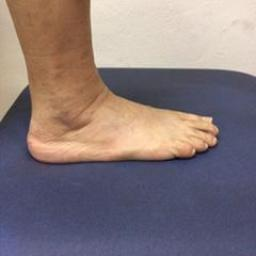Lateral View -Right Foot-: (20, 61, 220, 174)
